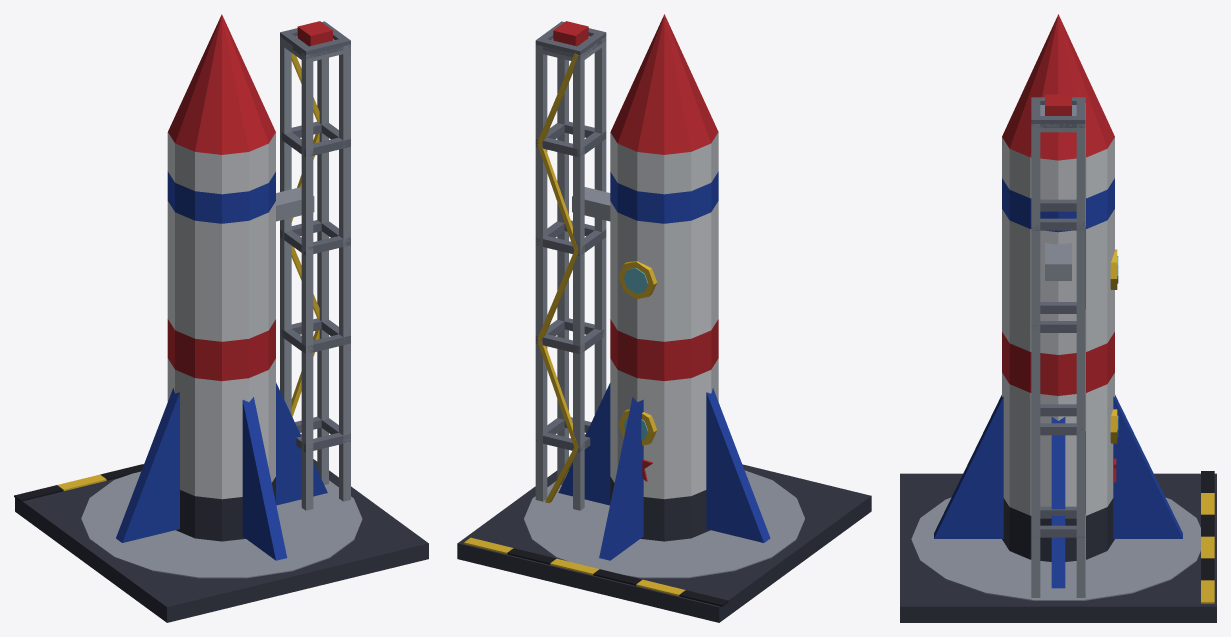
The model's file is Decor_HeroHQ_Rocket.fbx.
The picture shows the model from 3 angles, left to right: view 1: azimuth 30°, elevation 25°; view 2: azimuth 150°, elevation 25°; view 3: azimuth 270°, elevation 25°; orthographic projection. The views are drawn at different scales.
Visible parts, largest first — view 1: Rocket_Body; view 2: Rocket_Body; view 3: Rocket_Body.
Boxes of the visible parts, bbox=[...] form: Rocket_Body: bbox=[14, 14, 428, 622]; Rocket_Body: bbox=[457, 14, 871, 622]; Rocket_Body: bbox=[900, 14, 1216, 622].
Bounding box in the file's own units: 14 × 26.5 × 14.
